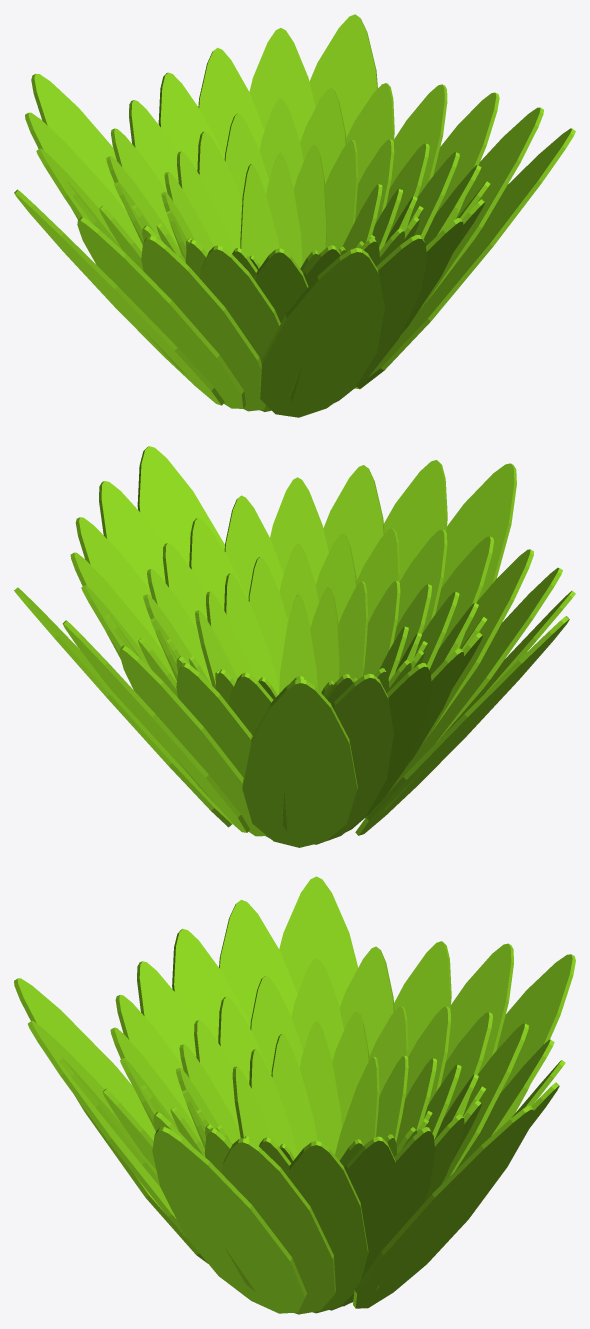
The model's file is Grass1.fbx.
3 renders of one model, top to bottom at view 1: azimuth 30°, elevation 25°; view 2: azimuth 150°, elevation 25°; view 3: azimuth 270°, elevation 25°, orthographic. The views are drawn at different scales.
Parts seen in each view (by area): view 1: Circle; view 2: Circle; view 3: Circle.
Boxes of the visible parts, x1,y1,x2,y2 form: Circle: [14, 14, 575, 417]; Circle: [14, 446, 575, 847]; Circle: [14, 876, 575, 1314].
Size of the model in its own units: 550 by 279 by 516.
